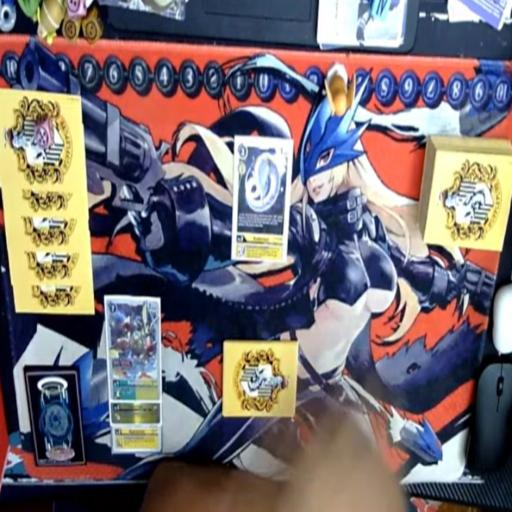card: (229, 138, 293, 260), (108, 296, 160, 404), (111, 425, 161, 457), (110, 398, 162, 428)
